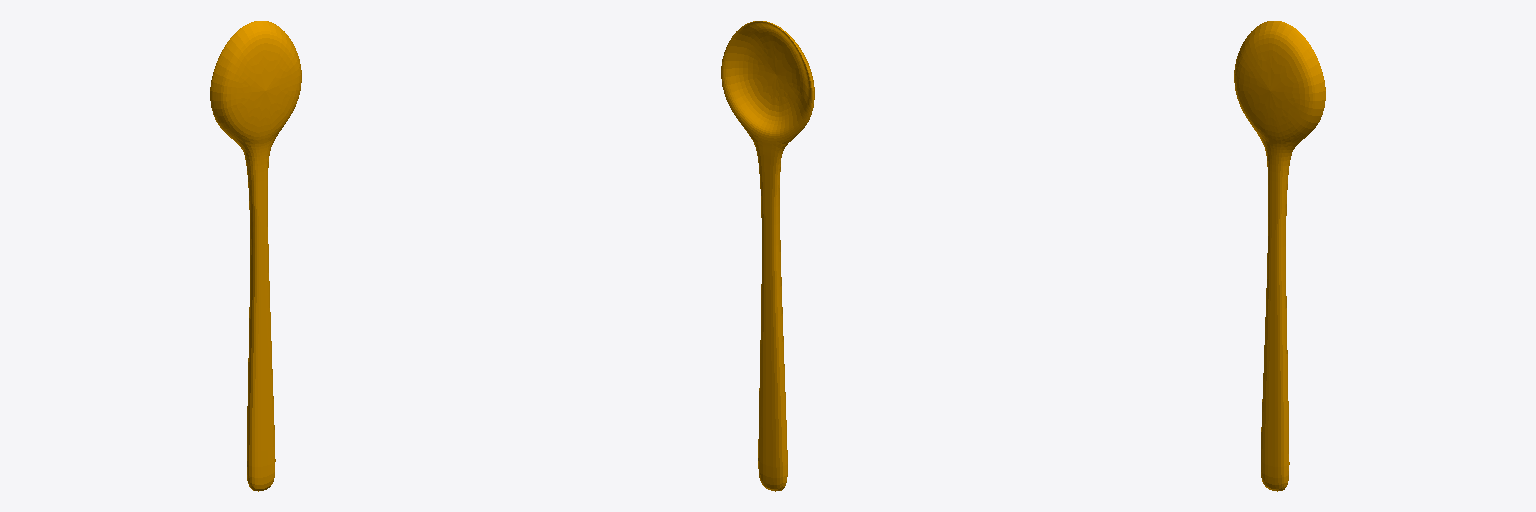
The robot description file, URDF, robot "spoon":
<robot name="spoon">
    <link name="spoon">
        <visual>
            <geometry>
                <mesh filename="spoon.stl" />
            </geometry>
        </visual>
        <collision>
            <geometry>
                <mesh filename="spoon.stl"/>
            </geometry>
        </collision>
    </link>
</robot>

--- Render facts (derived) ---
Views: 3 orthographic renders of the robot side by side, from view 1: azimuth 30°, elevation 25°; view 2: azimuth 150°, elevation 25°; view 3: azimuth 330°, elevation 25°.
Robot: spoon — 1 links, 0 joints (none); root link spoon; default pose: all joints at 0.
Links seen in each view (by area): view 1: spoon; view 2: spoon; view 3: spoon.
Link boxes in pixels (box(x1,y1,x2,y2)): spoon: box(210, 21, 301, 491); spoon: box(721, 21, 814, 491); spoon: box(1234, 21, 1325, 491).
Bounding box of the posed robot: 0.0704 × 0.0154 × 0.345 m (x, y, z).
1 mesh visuals loaded from 1 distinct referenced files (1 binary STL).